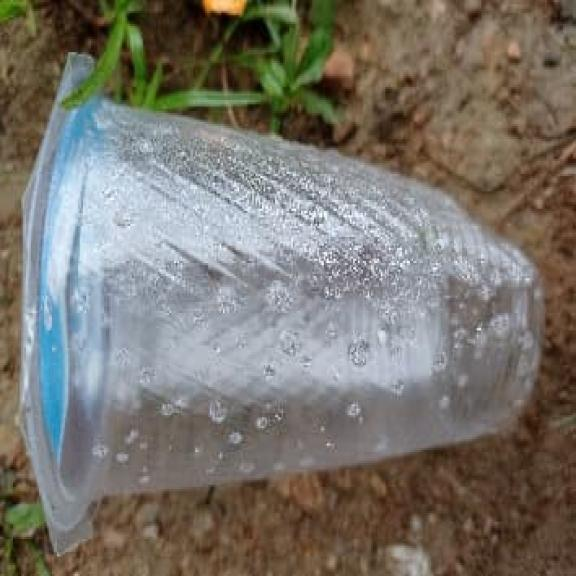Plastik: (20, 56, 543, 553)
